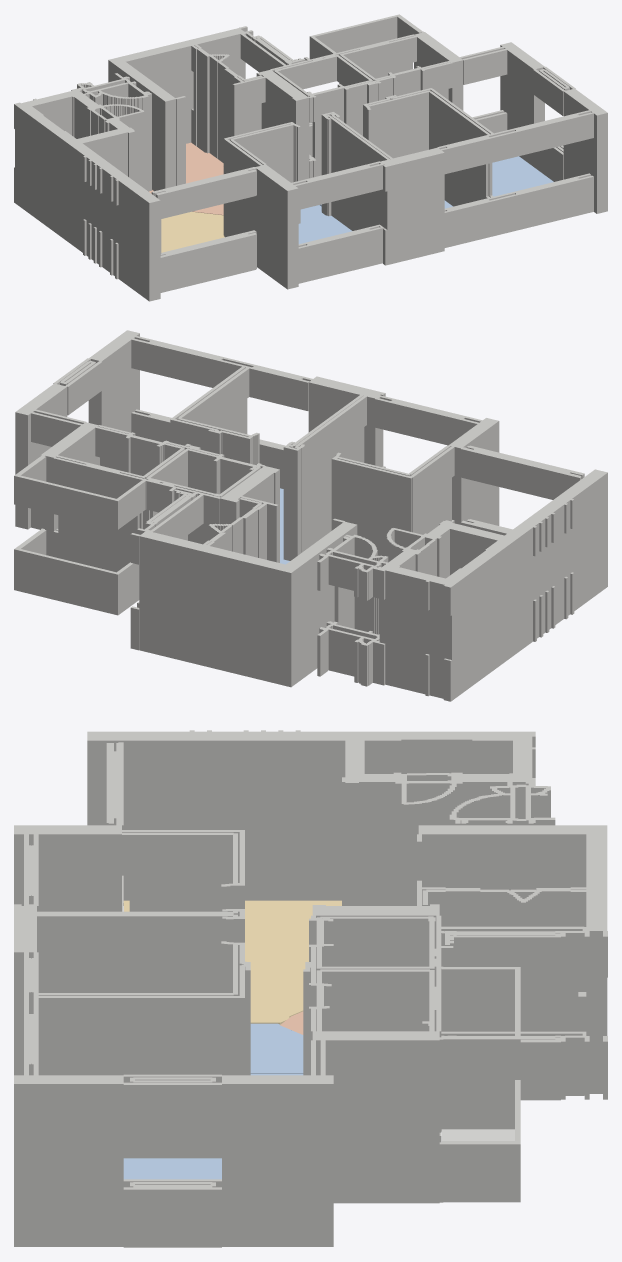
The picture shows the model from 3 angles, top to bottom: view 1: azimuth 30°, elevation 25°; view 2: azimuth 150°, elevation 25°; view 3: azimuth 270°, elevation 25°; orthographic projection. The views are drawn at different scales.
Visible parts, largest first — view 1: walls, room:living:9, room:bedroom:8, room:kitchen:0, room:bedroom:6; view 2: walls; view 3: walls, room:living:9, room:bedroom:6, room:bedroom:8, room:ledge:3.
Boxes of the visible parts, x1,y1,x2,y2 form: walls: [14, 14, 607, 301]; room:living:9: [161, 211, 224, 252]; room:bedroom:8: [492, 156, 553, 196]; room:kitchen:0: [149, 142, 223, 215]; room:bedroom:6: [298, 205, 352, 243]; walls: [14, 330, 607, 701]; walls: [14, 730, 607, 1247]; room:living:9: [123, 900, 341, 1024]; room:bedroom:6: [250, 1023, 303, 1073]; room:bedroom:8: [123, 1158, 221, 1179]; room:ledge:3: [441, 1129, 514, 1140].
Size of the model in its own units: 13.07 by 2.8 by 9.25.
